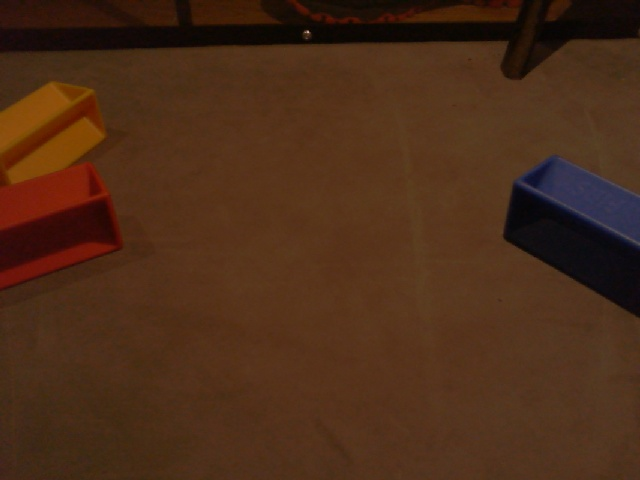BlueSample: (500, 152, 640, 326)
RedSample: (1, 157, 125, 291)
YellowSample: (1, 78, 111, 186)
